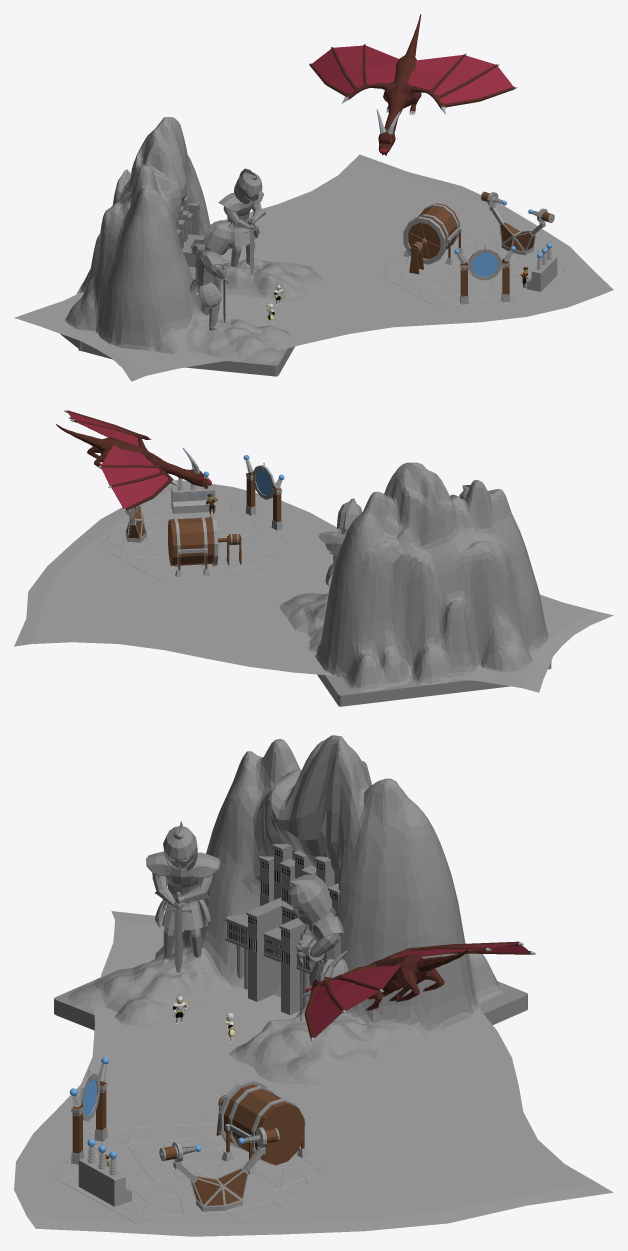
File: DwarfMountainShowcase.glb
3 views of the same model, one above another, from view 1: azimuth 30°, elevation 25°; view 2: azimuth 150°, elevation 25°; view 3: azimuth 270°, elevation 25° (orthographic). The views are drawn at different scales.
Visible parts, largest first — view 1: MountainShowcase, DwarfKingdom, DwarfWorkshop, Dragon_Flying; view 2: DwarfKingdom, MountainShowcase, DwarfWorkshop, Dragon_Flying; view 3: DwarfKingdom, MountainShowcase, DwarfWorkshop, Dragon_Flying.
Boxes of the visible parts, x1,y1,x2,y2 form: MountainShowcase: [14, 154, 613, 381]; DwarfKingdom: [60, 117, 322, 376]; DwarfWorkshop: [378, 191, 573, 307]; Dragon_Flying: [309, 14, 517, 155]; DwarfKingdom: [279, 462, 551, 706]; MountainShowcase: [14, 480, 613, 692]; DwarfWorkshop: [98, 455, 300, 580]; Dragon_Flying: [56, 410, 211, 511]; DwarfKingdom: [54, 735, 527, 1084]; MountainShowcase: [14, 911, 613, 1236]; DwarfWorkshop: [52, 1057, 330, 1223]; Dragon_Flying: [301, 941, 535, 1041].
Bounding box in the file's own units: 42.36 × 15.63 × 31.45.
